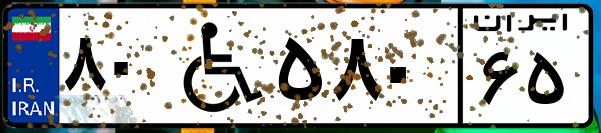0: (385, 28, 445, 110), (110, 28, 158, 98)
5: (270, 28, 330, 110), (525, 38, 570, 115)
6: (475, 38, 525, 113)
8: (330, 28, 385, 110), (57, 26, 110, 100)
ژ (معلولین و جانبازان): (158, 12, 270, 120)
